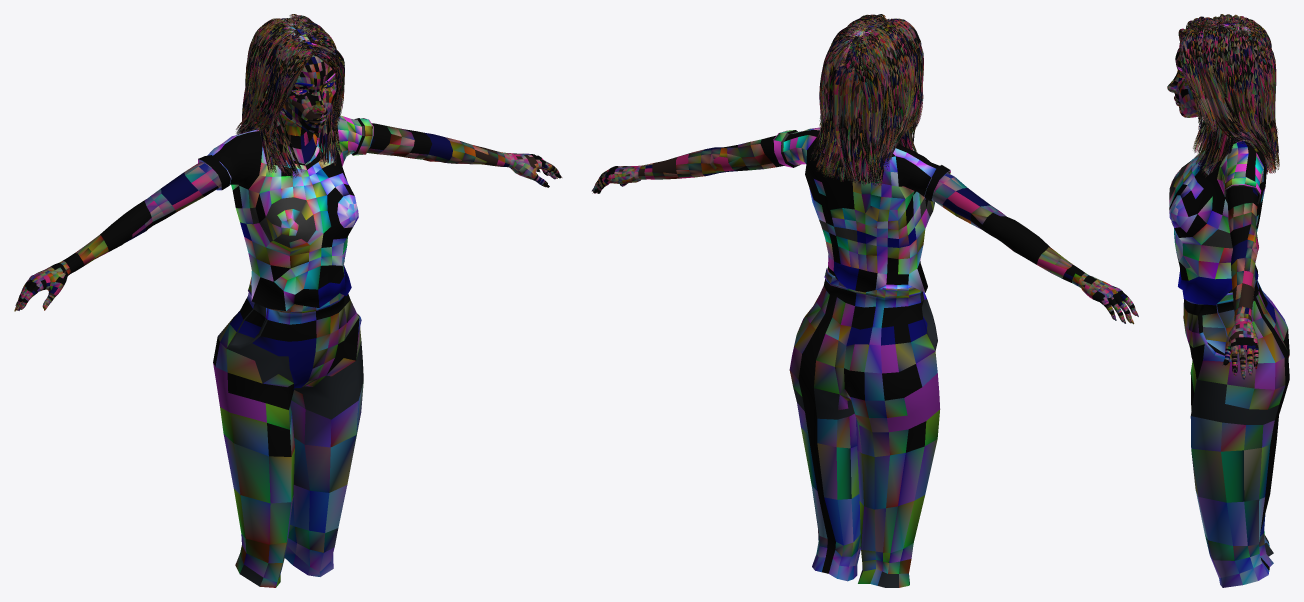
Rendered from lynn_test_anim_6.fbx.
3 renders of one model, left to right at view 1: azimuth 30°, elevation 25°; view 2: azimuth 150°, elevation 25°; view 3: azimuth 270°, elevation 25°, orthographic.
Parts seen in each view (by area): view 1: Lynn_model; view 2: Lynn_model; view 3: Lynn_model.
Boxes of the visible parts, x1,y1,x2,y2 form: Lynn_model: [14, 14, 562, 587]; Lynn_model: [591, 14, 1138, 587]; Lynn_model: [1167, 14, 1289, 587].
Size of the model in its own units: 135 by 132 by 26.54.
